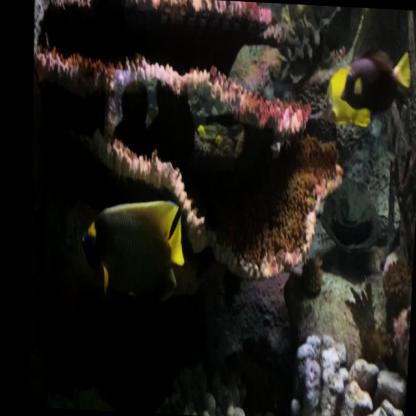fish: (76, 192, 190, 307), (328, 44, 414, 123), (319, 64, 373, 128), (196, 124, 206, 139), (214, 134, 222, 146)
